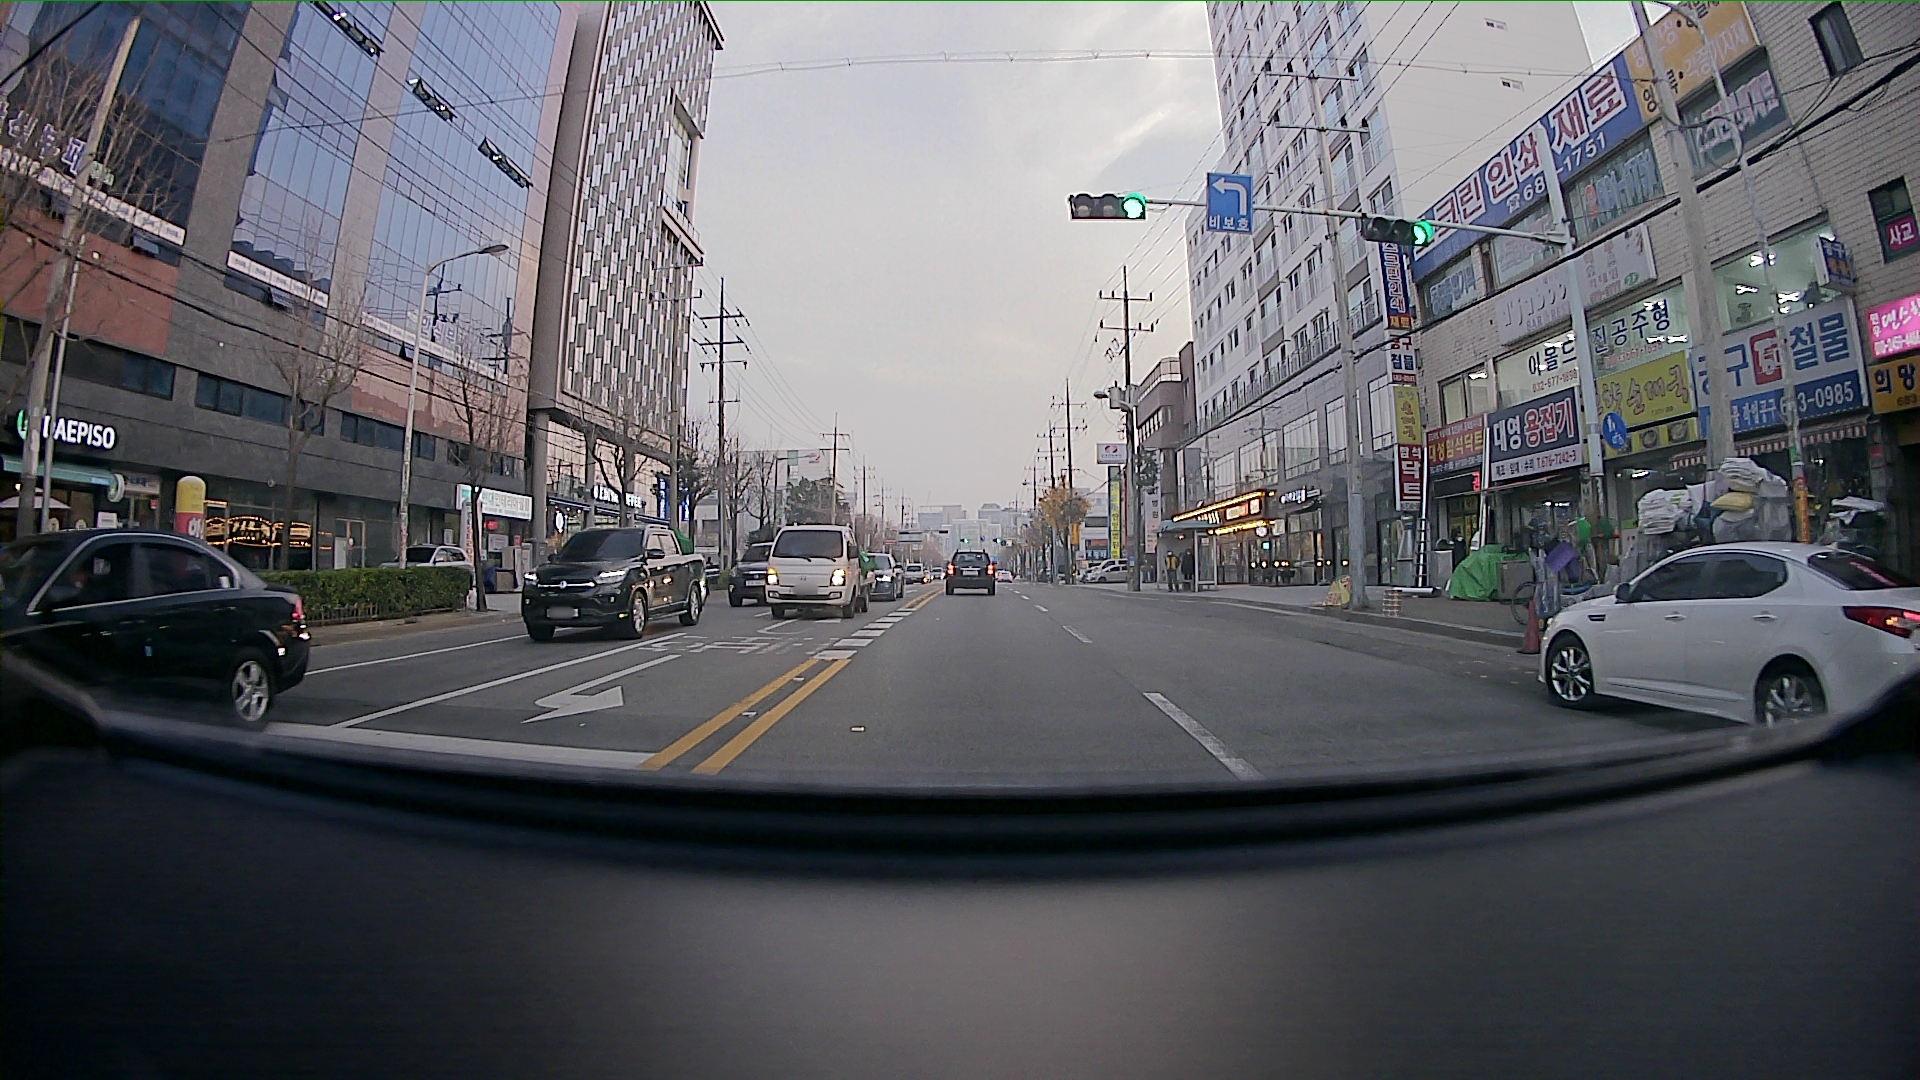trafficLight: (1360, 206, 1429, 249), (1065, 193, 1149, 223)
trafficSignRTG: (1205, 167, 1255, 237)
